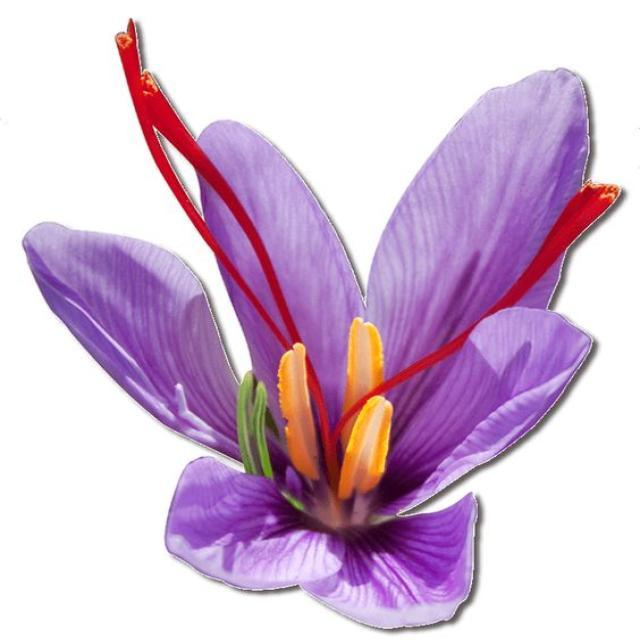Flower: (21, 33, 614, 634)
stigma: (105, 18, 333, 464), (136, 71, 338, 477), (334, 173, 627, 428)
